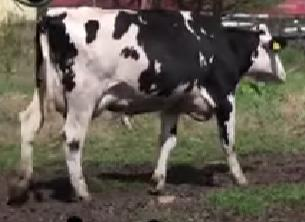cow: (8, 7, 286, 207)
